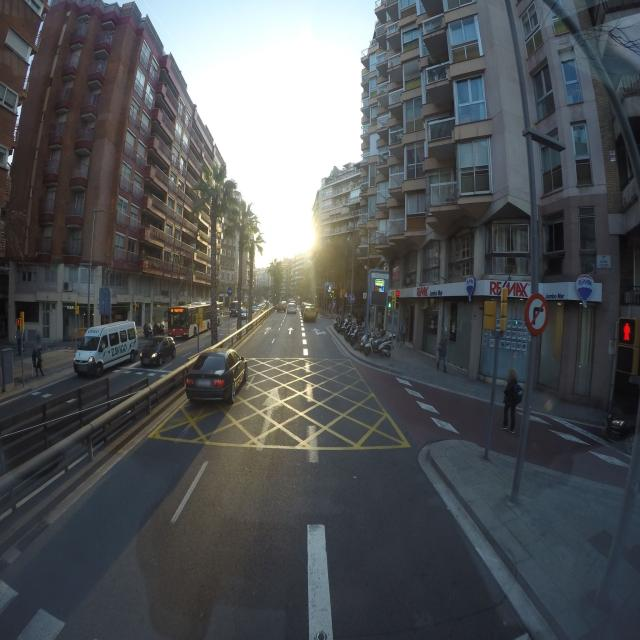bike: (367, 331, 392, 357), (359, 332, 375, 352), (348, 326, 364, 345), (340, 319, 351, 335)
car: (73, 321, 137, 377), (184, 349, 248, 405), (140, 336, 176, 368), (302, 304, 317, 322), (286, 302, 296, 315), (277, 302, 286, 312), (240, 309, 248, 318)
